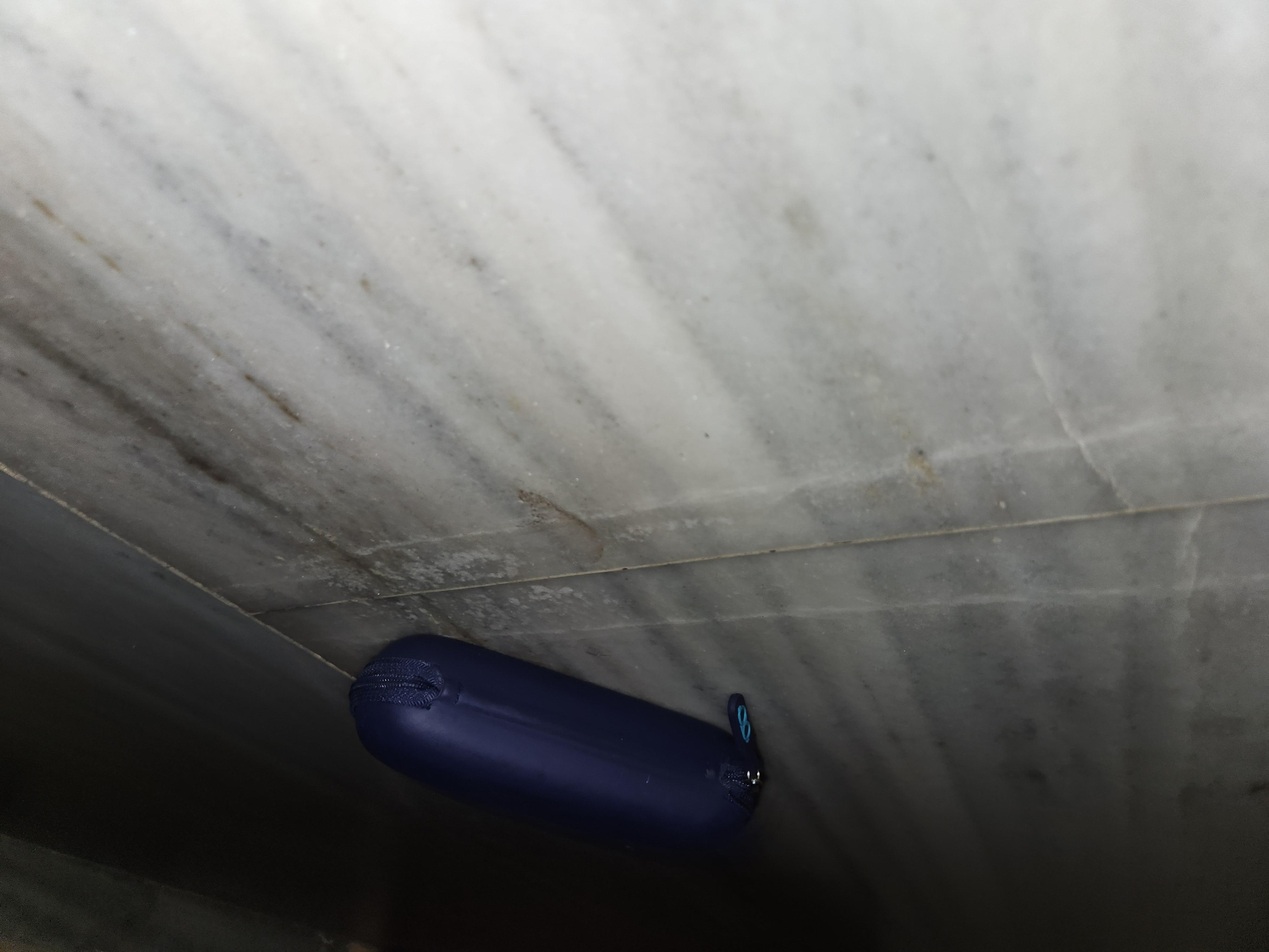case: (504, 96, 923, 318)
